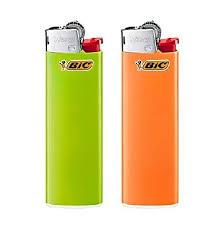lighter: (42, 18, 102, 206), (121, 20, 181, 205)
